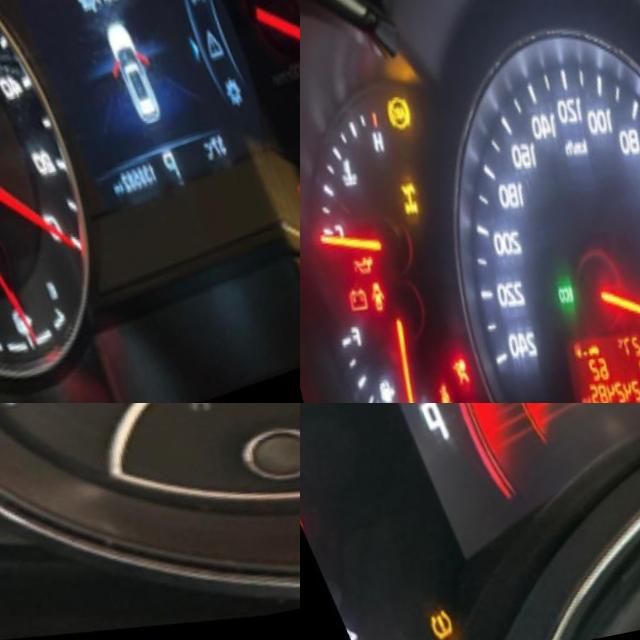Doors: (348, 281, 372, 319)
